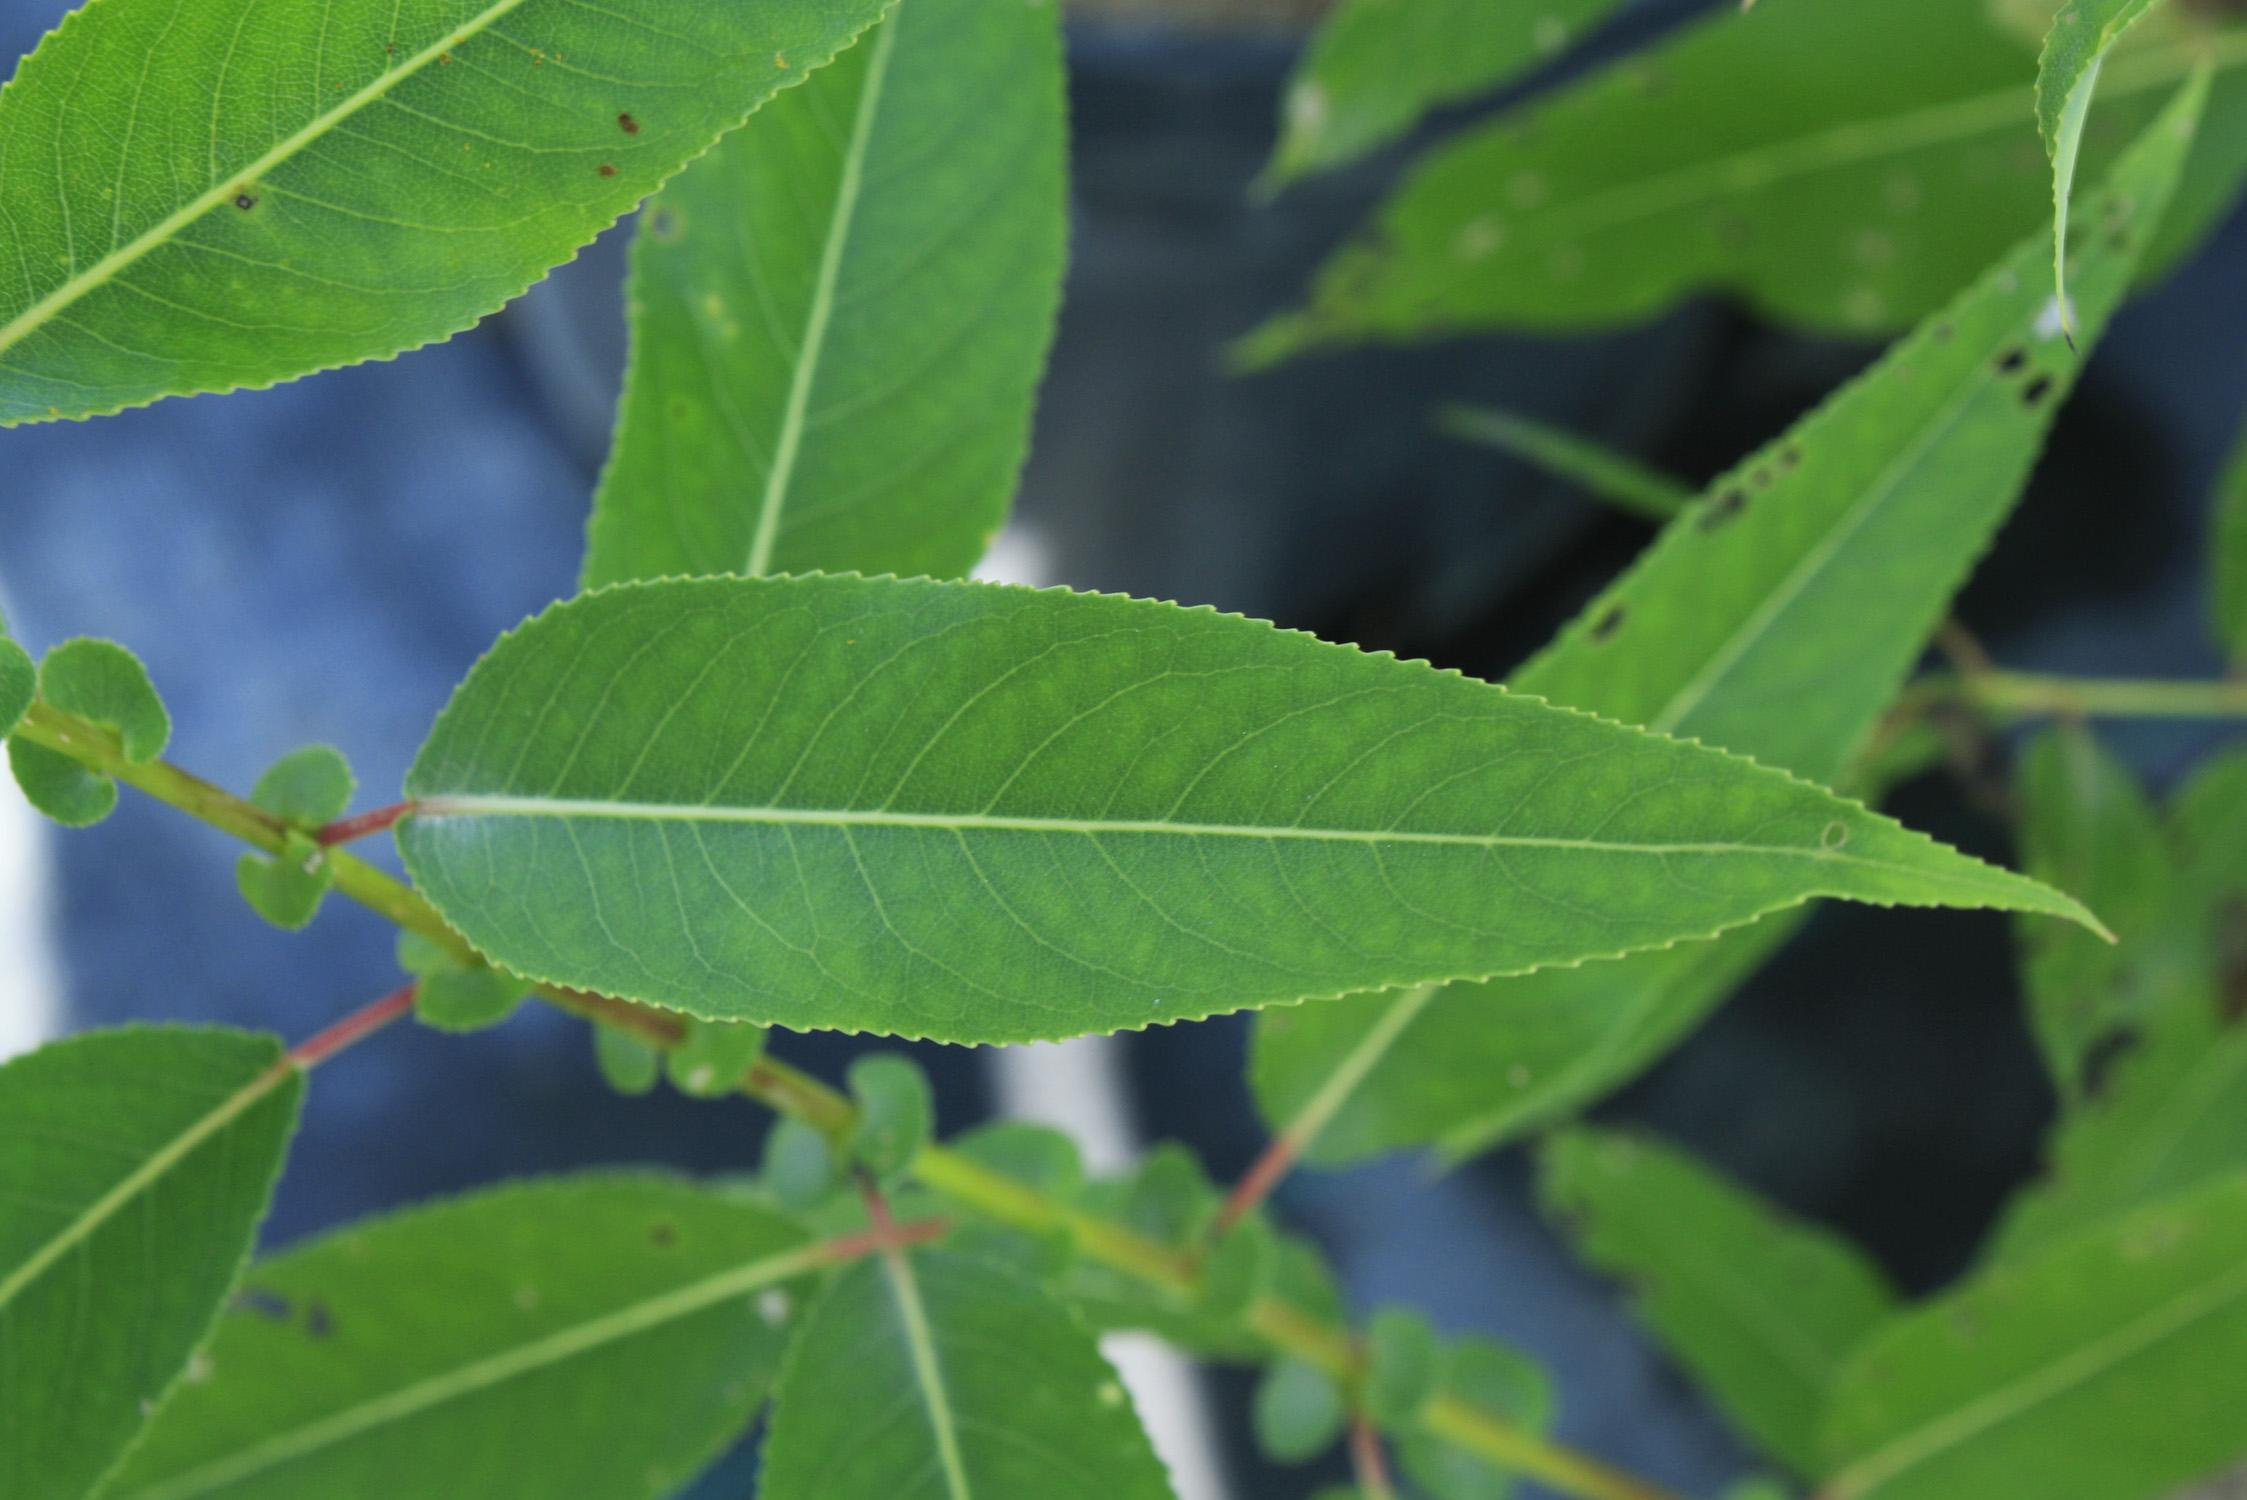Peach leaf: (392, 552, 2115, 1078)
